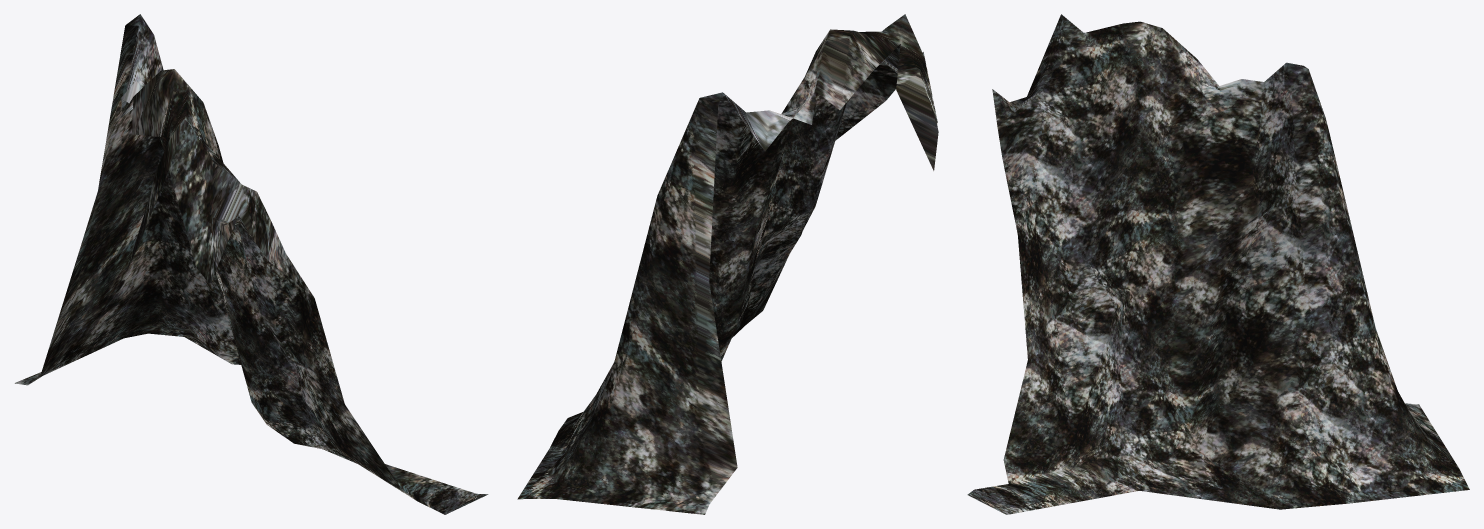
Rendered from OVERHILL_A_01_MOUN1_OBJECT154.fbx.
3 renders of one model, left to right at view 1: azimuth 30°, elevation 25°; view 2: azimuth 150°, elevation 25°; view 3: azimuth 270°, elevation 25°, orthographic. The views are drawn at different scales.
Parts seen in each view (by area): view 1: OVERHILL_A_01_MOUN1_OBJECT154; view 2: OVERHILL_A_01_MOUN1_OBJECT154; view 3: OVERHILL_A_01_MOUN1_OBJECT154.
Boxes of the visible parts, x1,y1,x2,y2 form: OVERHILL_A_01_MOUN1_OBJECT154: (15, 14, 488, 514); OVERHILL_A_01_MOUN1_OBJECT154: (517, 14, 938, 514); OVERHILL_A_01_MOUN1_OBJECT154: (967, 14, 1469, 514).
Bounding box in the file's own units: 227936 × 302177 × 351277.
Materials: 1 (1 with a texture image).
